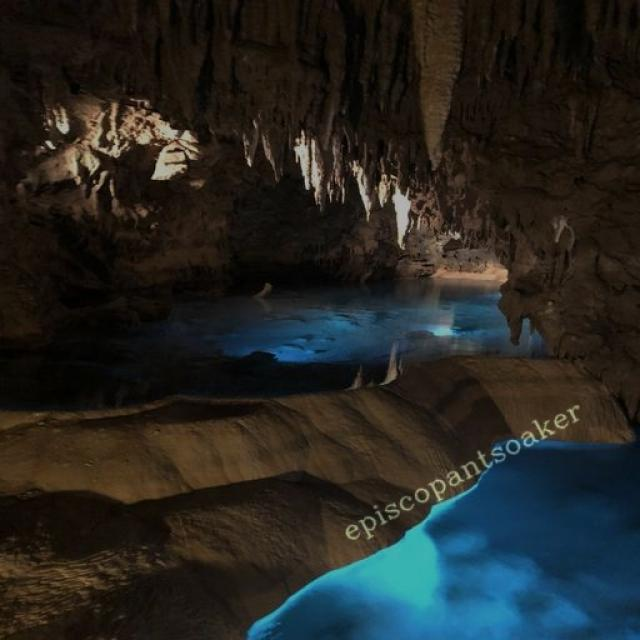watermark: (340, 393, 585, 546)
